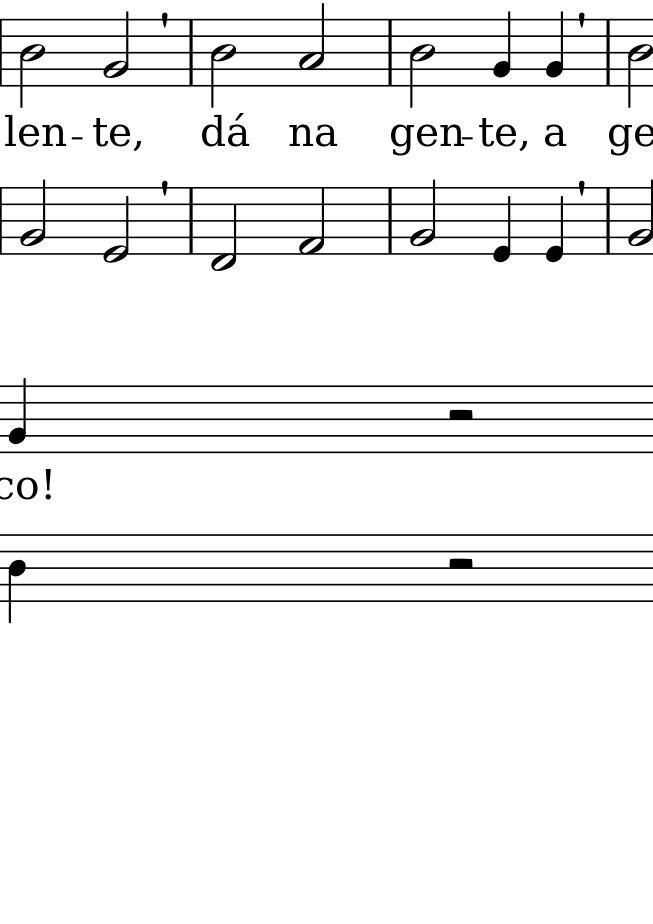2_-1: (209, 183, 239, 274)
2_0: (101, 184, 131, 265)
2_1: (299, 186, 325, 257)
2_2: (102, 9, 131, 87), (19, 179, 48, 256), (409, 178, 438, 255), (624, 180, 653, 257)
2_3: (297, 1, 327, 87)
2_4: (17, 19, 46, 114), (209, 18, 238, 106), (408, 17, 435, 109), (626, 18, 651, 112)
4_0: (489, 181, 513, 266), (543, 186, 567, 264)
4_2: (490, 9, 513, 87), (543, 9, 566, 87), (7, 376, 29, 455)
4_4: (7, 533, 27, 626)
Rests2: (445, 556, 476, 572), (446, 408, 475, 423)
Single_barline: (382, 19, 398, 87), (183, 19, 198, 86), (183, 188, 198, 254), (602, 188, 616, 254), (601, 20, 615, 85), (383, 188, 397, 253), (1, 188, 8, 253), (1, 19, 7, 83)
